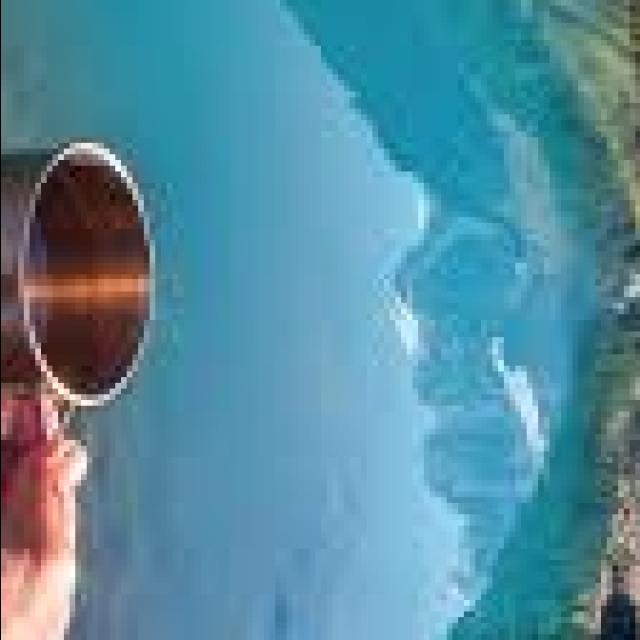-: (223, 0, 611, 640), (166, 0, 412, 315), (360, 566, 583, 640)
